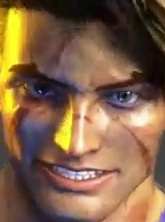kevin: (4, 13, 162, 221)
